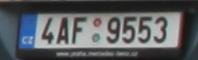3: (154, 16, 167, 43)
4: (42, 18, 53, 44)
5: (122, 16, 137, 42), (139, 16, 152, 43)
9: (107, 17, 120, 43)
A: (56, 18, 68, 44)
F: (72, 17, 85, 43)
